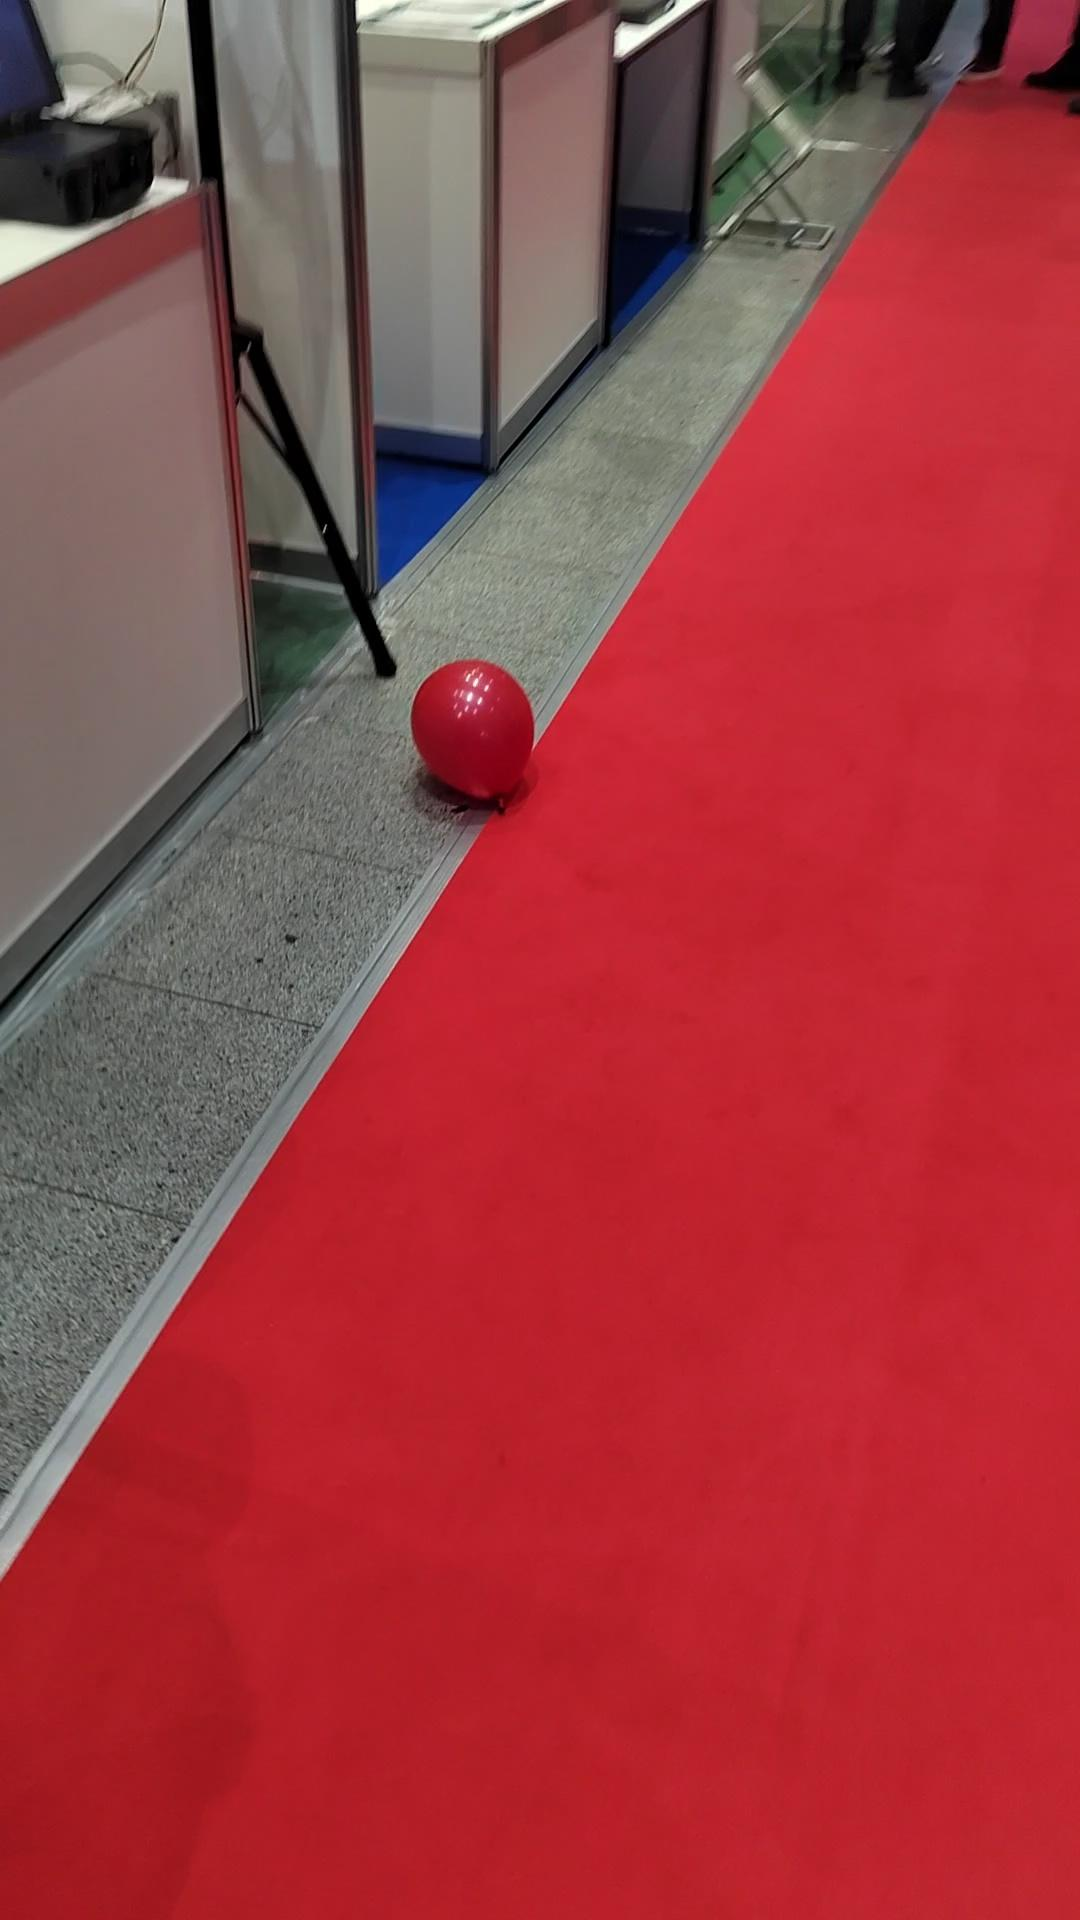red: (410, 657, 539, 814)
